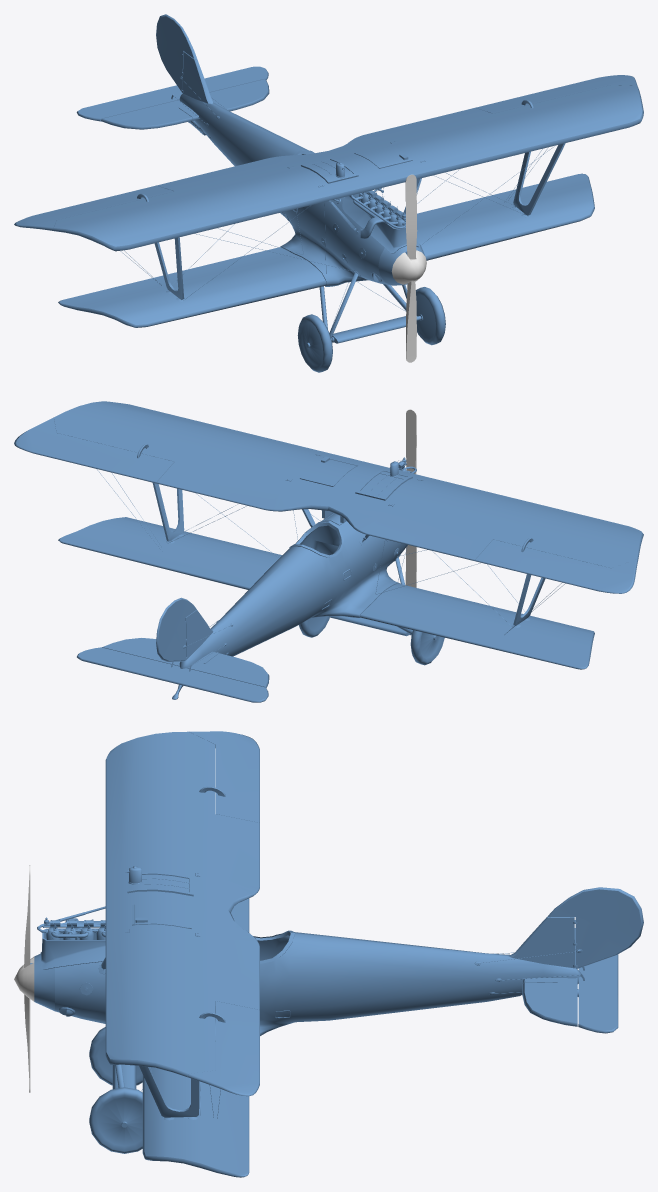
File: airplaneNEW.fbx
The picture shows the model from 3 angles, top to bottom: view 1: azimuth 30°, elevation 25°; view 2: azimuth 150°, elevation 25°; view 3: azimuth 270°, elevation 25°; orthographic projection. The views are drawn at different scales.
Parts seen in each view (by area): view 1: pfalzDIIIUnityFuselage, pfalzDIIIUnityPropeller; view 2: pfalzDIIIUnityFuselage, pfalzDIIIUnityPropeller; view 3: pfalzDIIIUnityFuselage, pfalzDIIIUnityPropeller.
Boxes of the visible parts, x1,y1,x2,y2 form: pfalzDIIIUnityFuselage: [14, 14, 643, 372]; pfalzDIIIUnityPropeller: [392, 174, 426, 362]; pfalzDIIIUnityFuselage: [14, 401, 643, 702]; pfalzDIIIUnityPropeller: [405, 409, 416, 587]; pfalzDIIIUnityFuselage: [30, 731, 643, 1177]; pfalzDIIIUnityPropeller: [14, 865, 34, 1092].
Bounding box in the file's own units: 6980 × 2284 × 5147.
